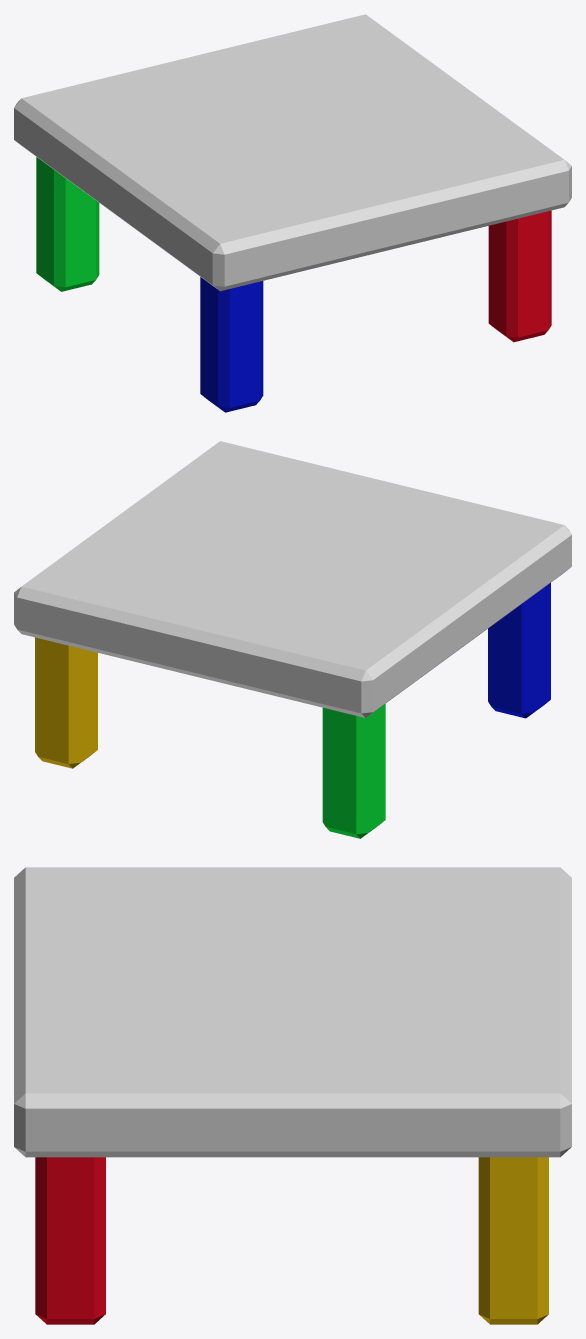
File: FlippedOff_Table.fbx
3 views of the same model, one above another, from view 1: azimuth 30°, elevation 25°; view 2: azimuth 150°, elevation 25°; view 3: azimuth 270°, elevation 25° (orthographic). The views are drawn at different scales.
Visible parts, largest first — view 1: Table; view 2: Table; view 3: Table.
Part boxes in pixels (x1=…): Table: x1=14, y1=14, x2=571, y2=412; Table: x1=14, y1=441, x2=571, y2=838; Table: x1=14, y1=867, x2=571, y2=1324.
Bounding box in the file's own units: 1582 × 749 × 1582.
